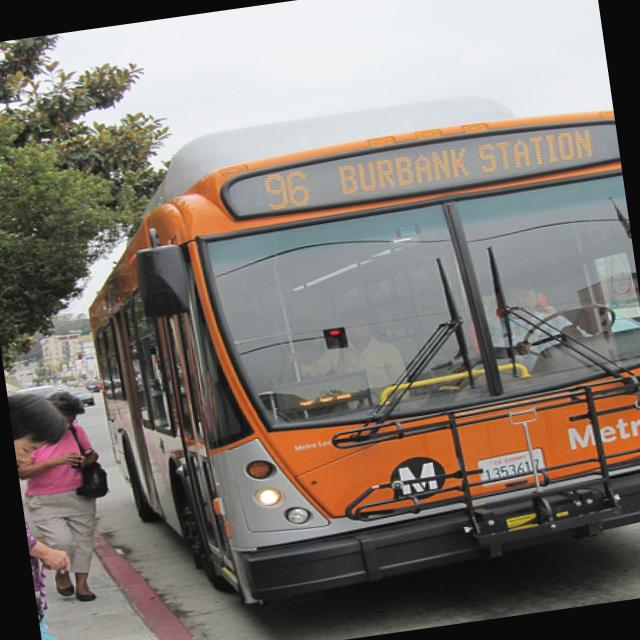Vehicle: (63, 76, 640, 633)
